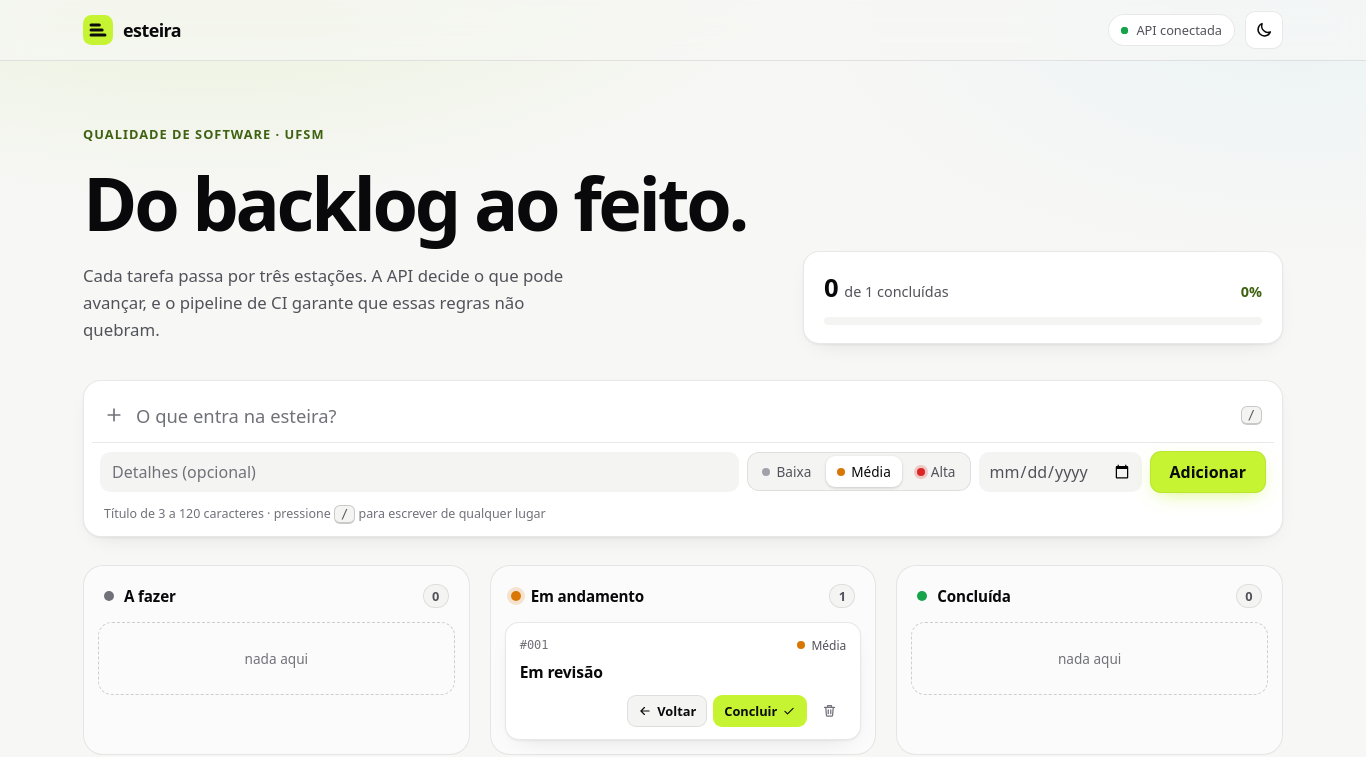
Scenario: App › mostra o conflito quando a API recusa a transição
The width and height of the screenshot is (1366, 757).
Click the button "Voltar".
click(667, 711)  # box [627, 695, 707, 727]
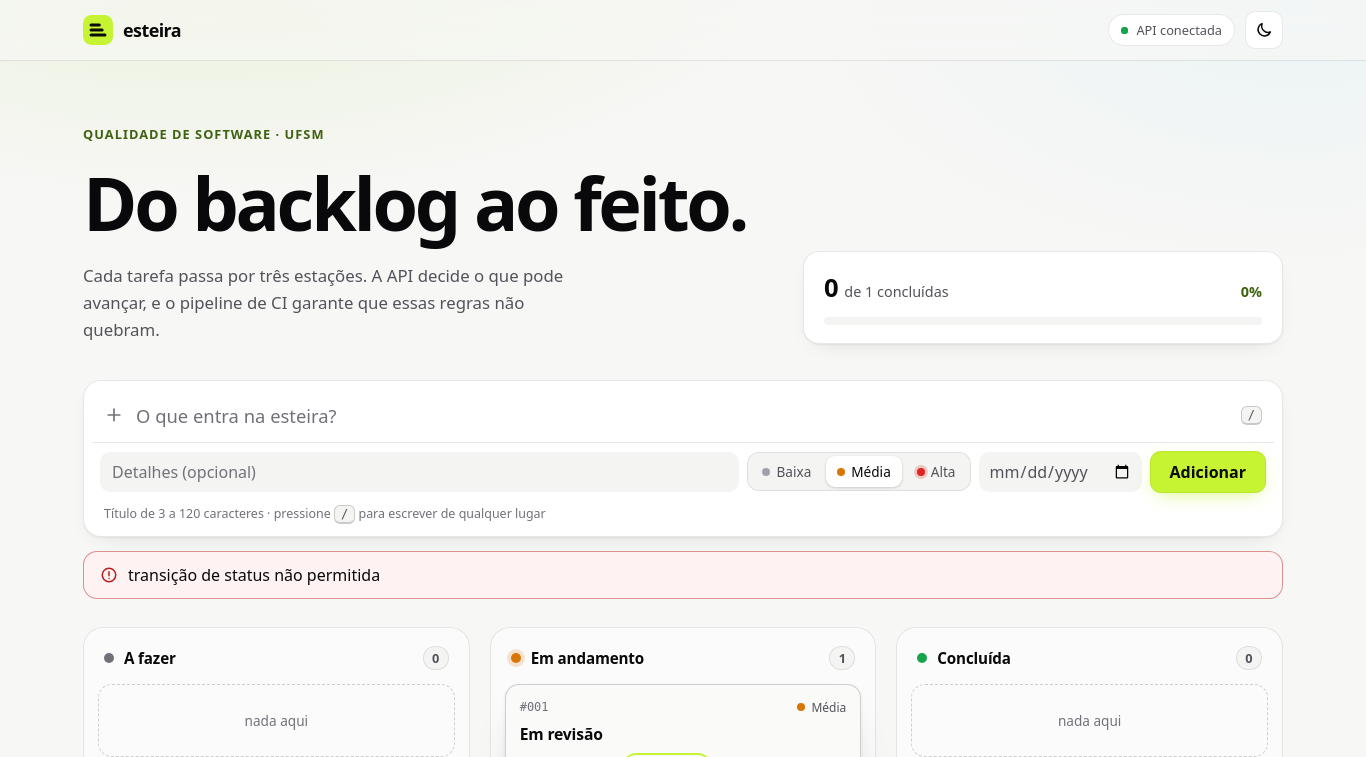
Expected: the text "API conectada" is shown, [1108, 14, 1235, 46]
Expected: the message reads "transição de status não permitida", [128, 564, 380, 586]
